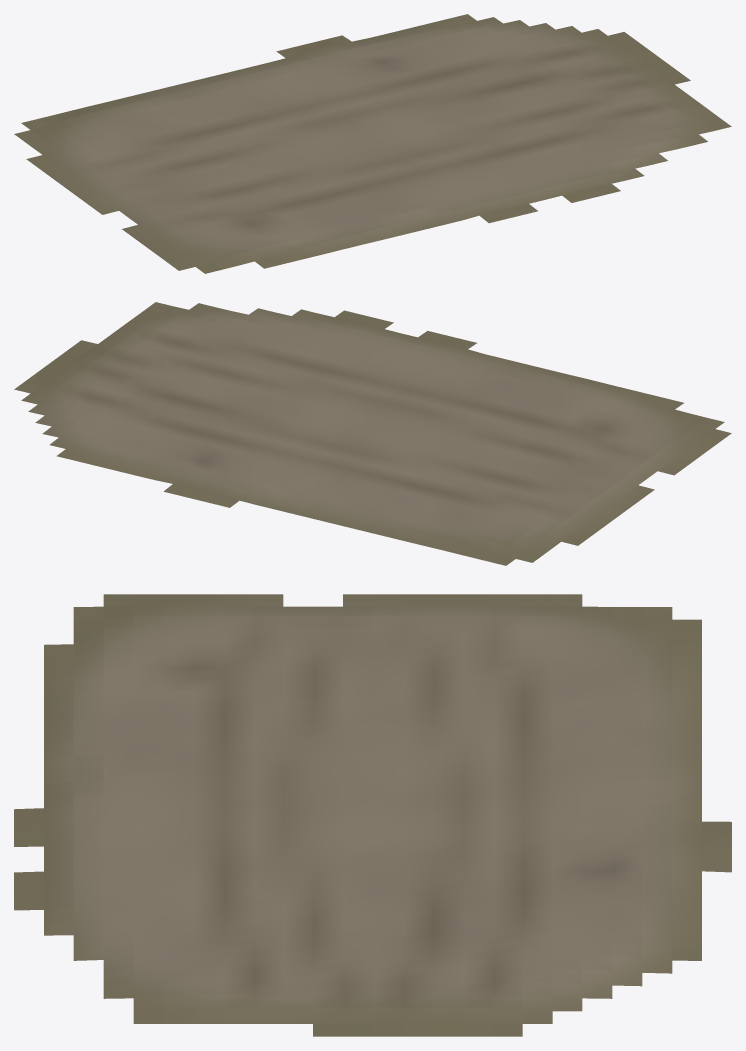
File: boat_parking_gravel.glb
3 views of the same model, one above another, from view 1: azimuth 30°, elevation 25°; view 2: azimuth 150°, elevation 25°; view 3: azimuth 270°, elevation 25° (orthographic). The views are drawn at different scales.
Visible parts, largest first — view 1: boat_parking_gravel_LOD0; view 2: boat_parking_gravel_LOD0; view 3: boat_parking_gravel_LOD0.
Part boxes in pixels (x1=…): boat_parking_gravel_LOD0: x1=14, y1=14, x2=731, y2=273; boat_parking_gravel_LOD0: x1=14, y1=302, x2=731, y2=565; boat_parking_gravel_LOD0: x1=14, y1=594, x2=731, y2=1036.
Size of what is drawn, in the model's own units: 21 by 0.0967 by 14.4.
